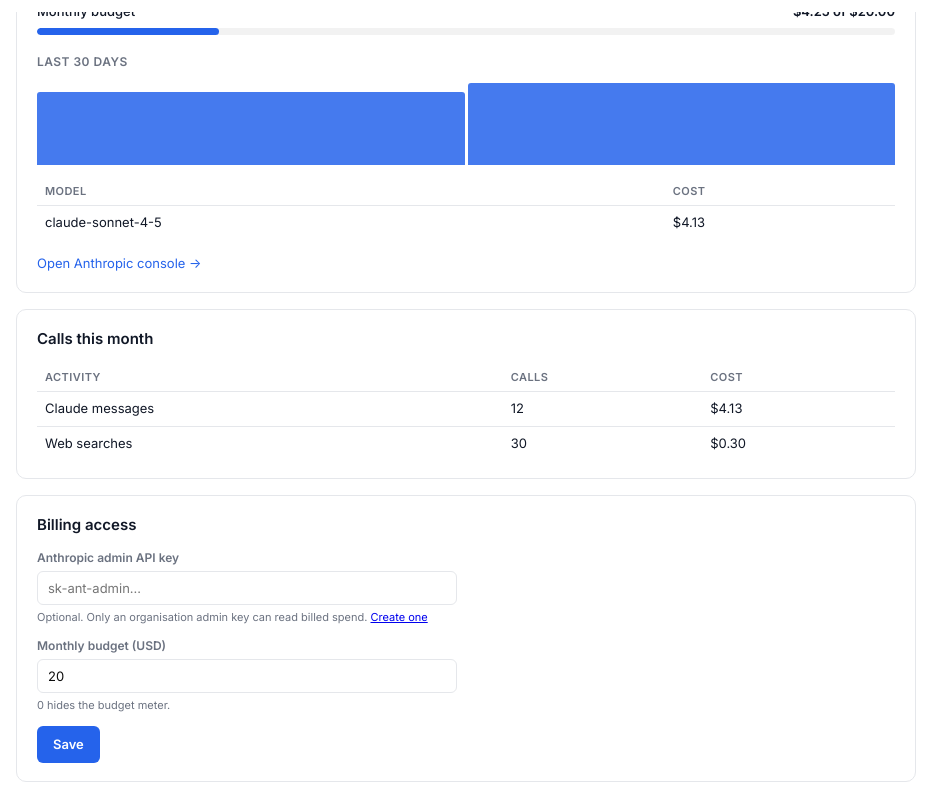
Test: Usage › saves the admin key and budget, then reloads
The width and height of the screenshot is (933, 799).
(page scrolled)
Type "sk-ant-admin-secret" into the password field with placeholder "sk-ant-admin…" at (247, 588), box [37,570,457,604]
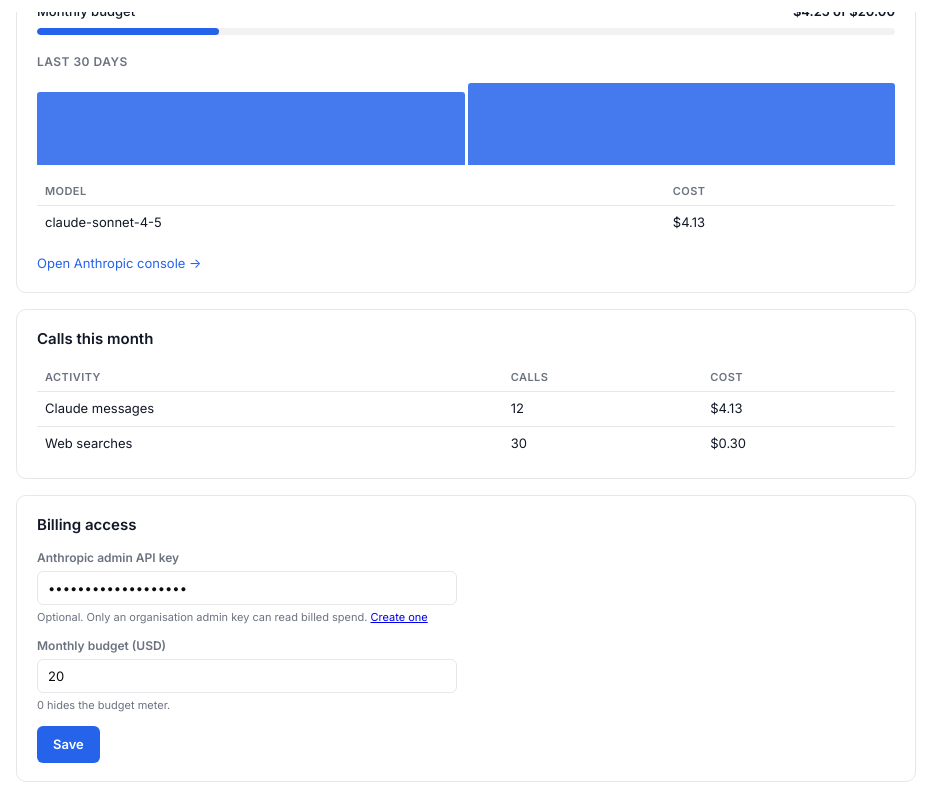
Click the button "Save" at (68, 744), box [37,726,100,763]
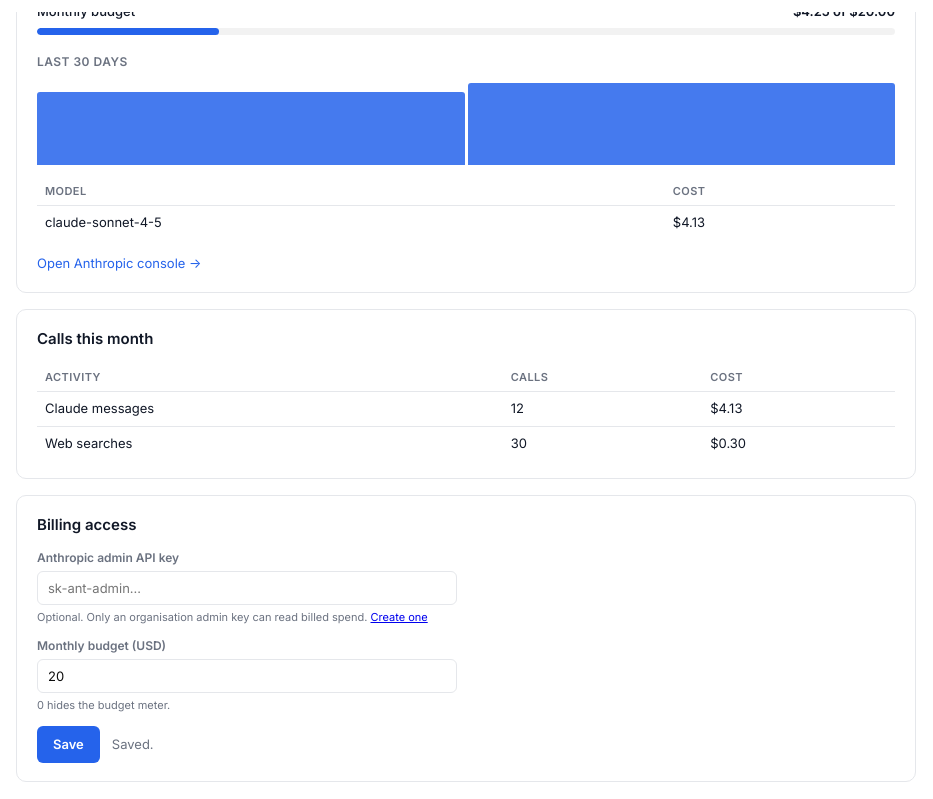
Expected: the text "Saved." is shown, [112,734,154,754]
Expected: the password field with placeholder "sk-ant-admin…" is empty, [37,570,457,604]
